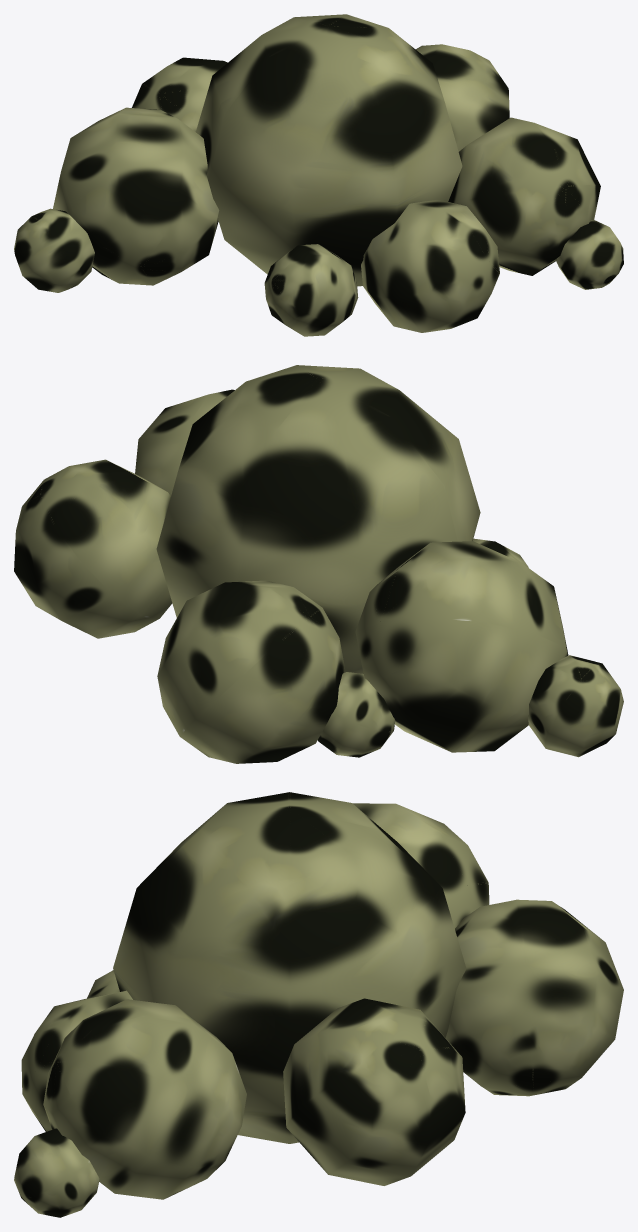
Rendered from fungal_cluster_3.fbx.
3 views of the same model, one above another, from view 1: azimuth 30°, elevation 25°; view 2: azimuth 150°, elevation 25°; view 3: azimuth 270°, elevation 25° (orthographic). The views are drawn at different scales.
Visible parts, largest first — view 1: fungal_cluster_3; view 2: fungal_cluster_3; view 3: fungal_cluster_3.
Boxes of the visible parts, box(x1,y1,x2,y2) form: fungal_cluster_3: box(14, 14, 623, 336); fungal_cluster_3: box(14, 365, 623, 763); fungal_cluster_3: box(14, 792, 623, 1217).
Size of the model in its own units: 395 by 199 by 335.
Materials: 1 (1 with a texture image).
